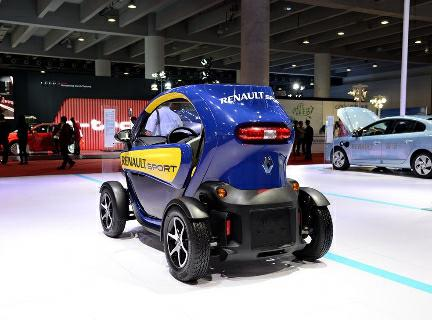雷诺-Twizy: (97, 76, 338, 293)
